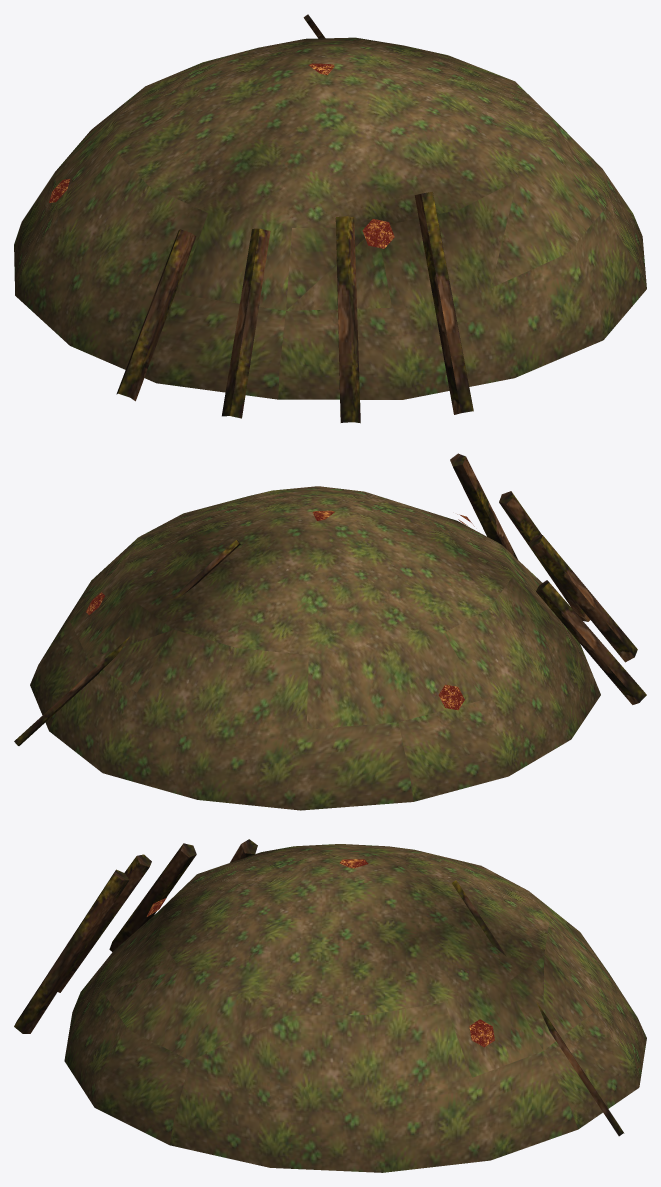
File: camp_charcoal_clamp.glb
3 renders of one model, top to bottom at view 1: azimuth 30°, elevation 25°; view 2: azimuth 150°, elevation 25°; view 3: azimuth 270°, elevation 25°, orthographic. The views are drawn at different scales.
Parts seen in each view (by area): view 1: camp_charcoal_clamp; view 2: camp_charcoal_clamp; view 3: camp_charcoal_clamp.
Part boxes in pixels (bbox=[...]): camp_charcoal_clamp: bbox=[14, 14, 646, 423]; camp_charcoal_clamp: bbox=[14, 453, 646, 810]; camp_charcoal_clamp: bbox=[14, 839, 646, 1172].
Size of the model in its own units: 3.57 by 1.25 by 3.77.
3 materials, 3 textured.
